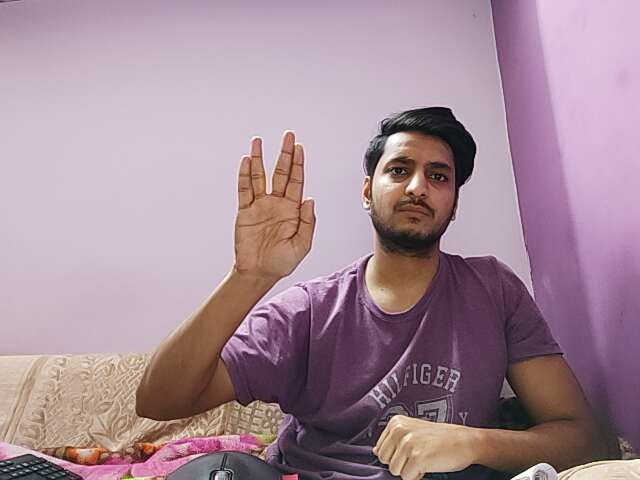LiveLong: (220, 127, 322, 291)
